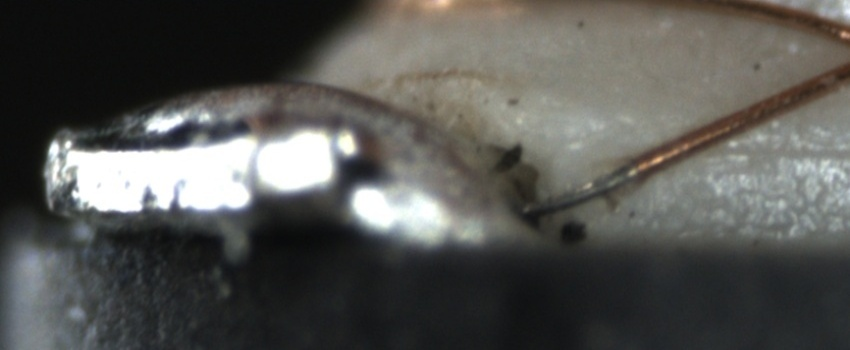DL: (707, 119, 849, 183)
TS: (525, 164, 640, 215)
